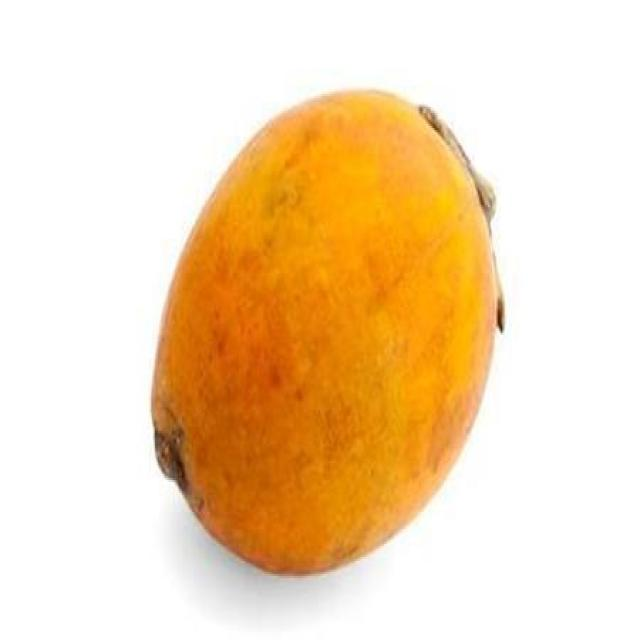good: (149, 90, 502, 578)
